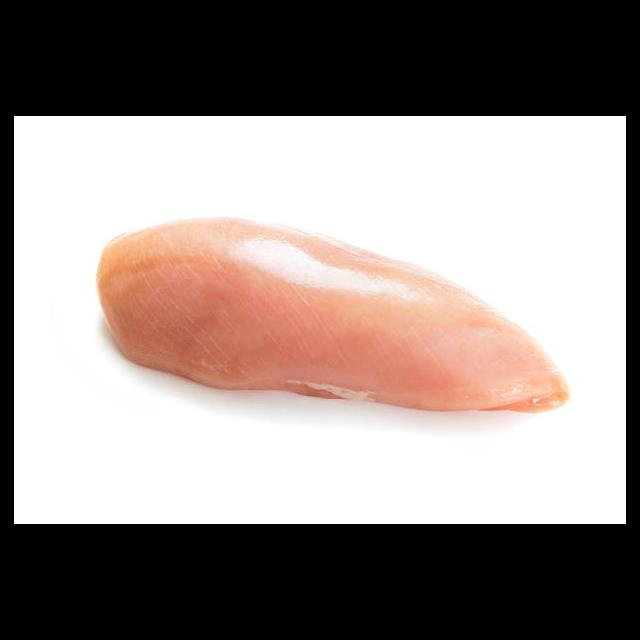chicken: (97, 216, 571, 417)
